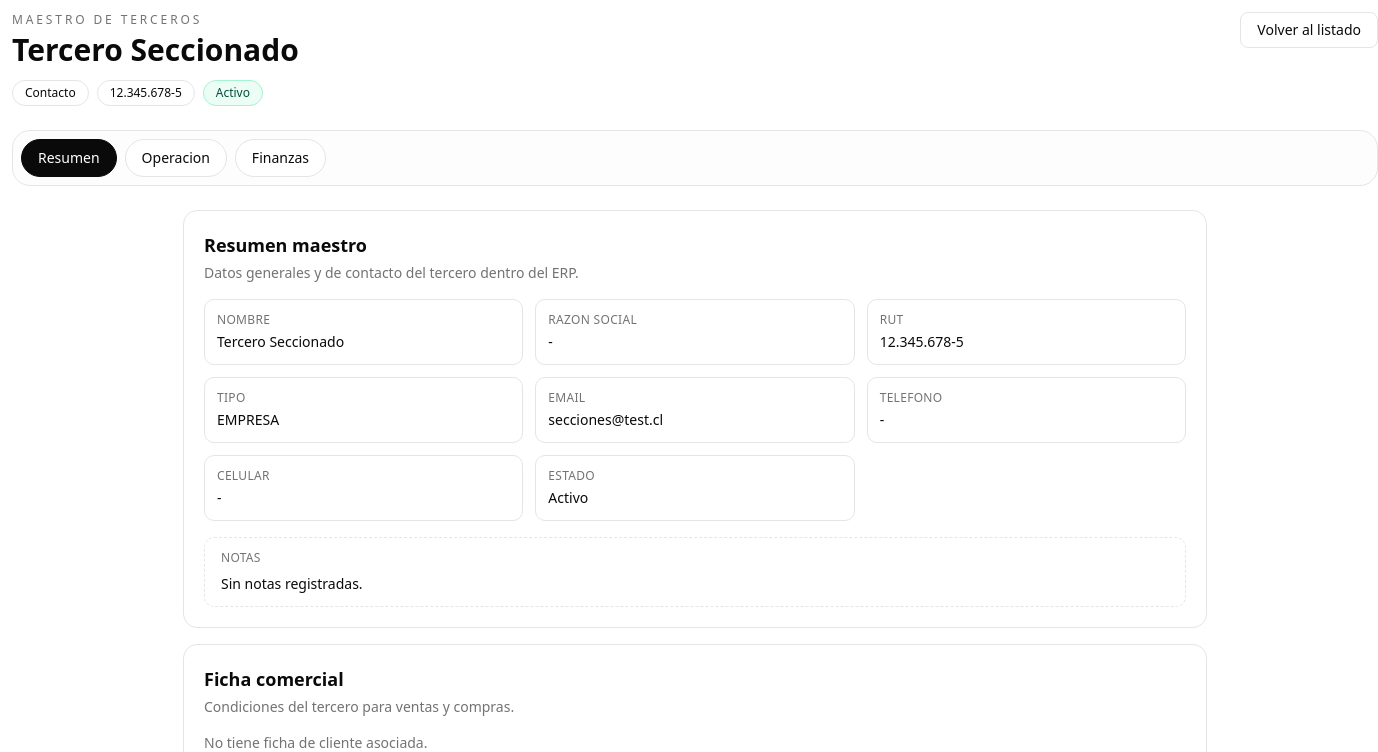
Test: contactos/ContactoDetailPage › permite navegar entre secciones de la ficha del tercero
Expected: the heading "Tercero Seccionado" is shown, [12,32,299,68]
Expected: the heading "Resumen maestro" is shown, [204,233,367,257]
Click the button "Operacion". click: (176, 158)
box: [125,139,227,177]
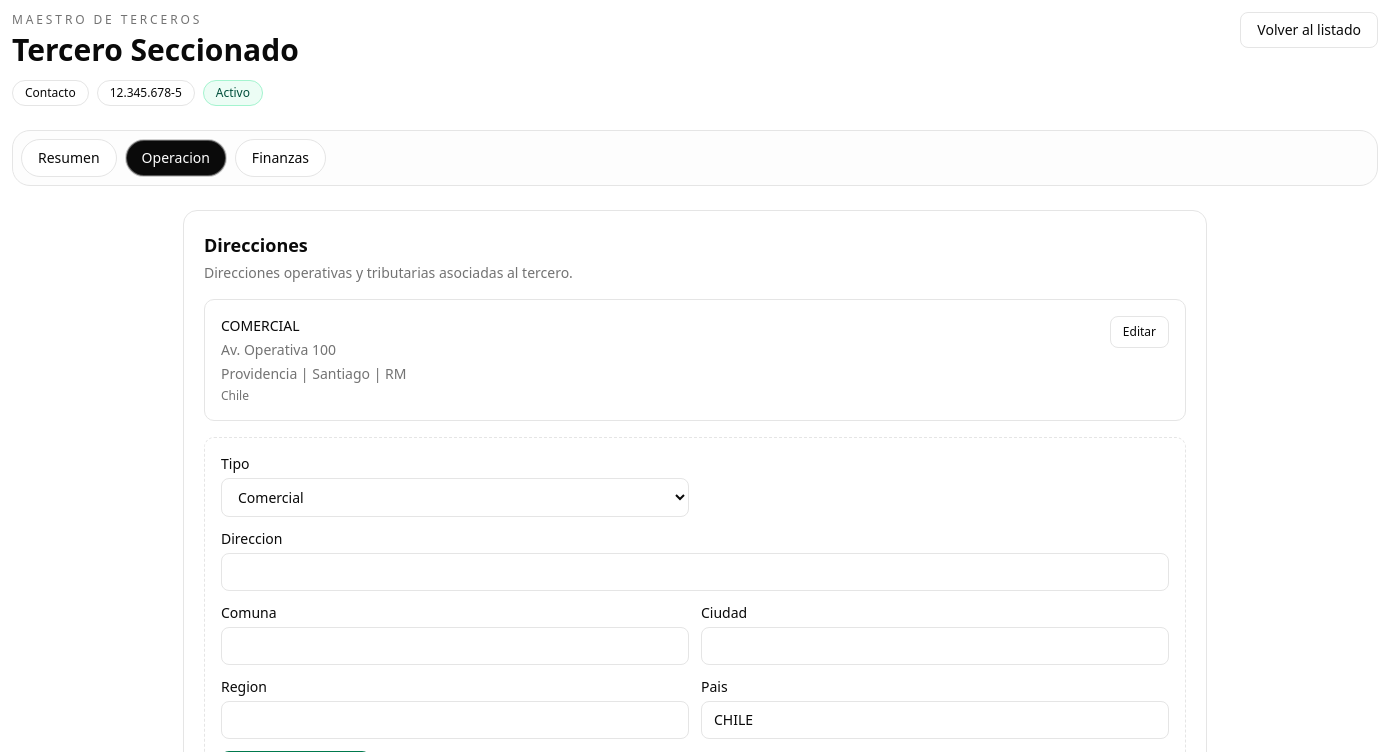
Result: the heading "Direcciones" is shown at [204,233,308,257]
Click the button "Finanzas". click: (280, 158)
box: [235,139,326,177]
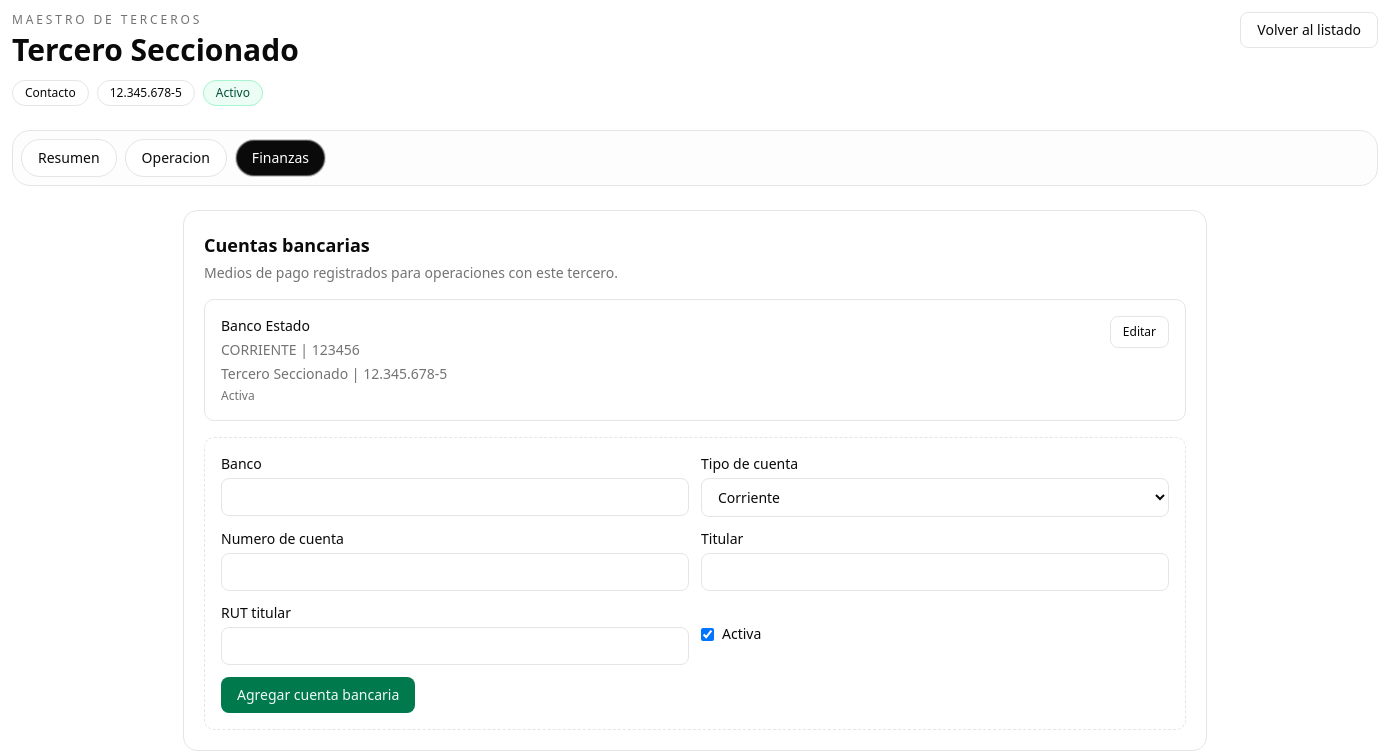
Result: the heading "Cuentas bancarias" is shown at [204,233,370,257]
